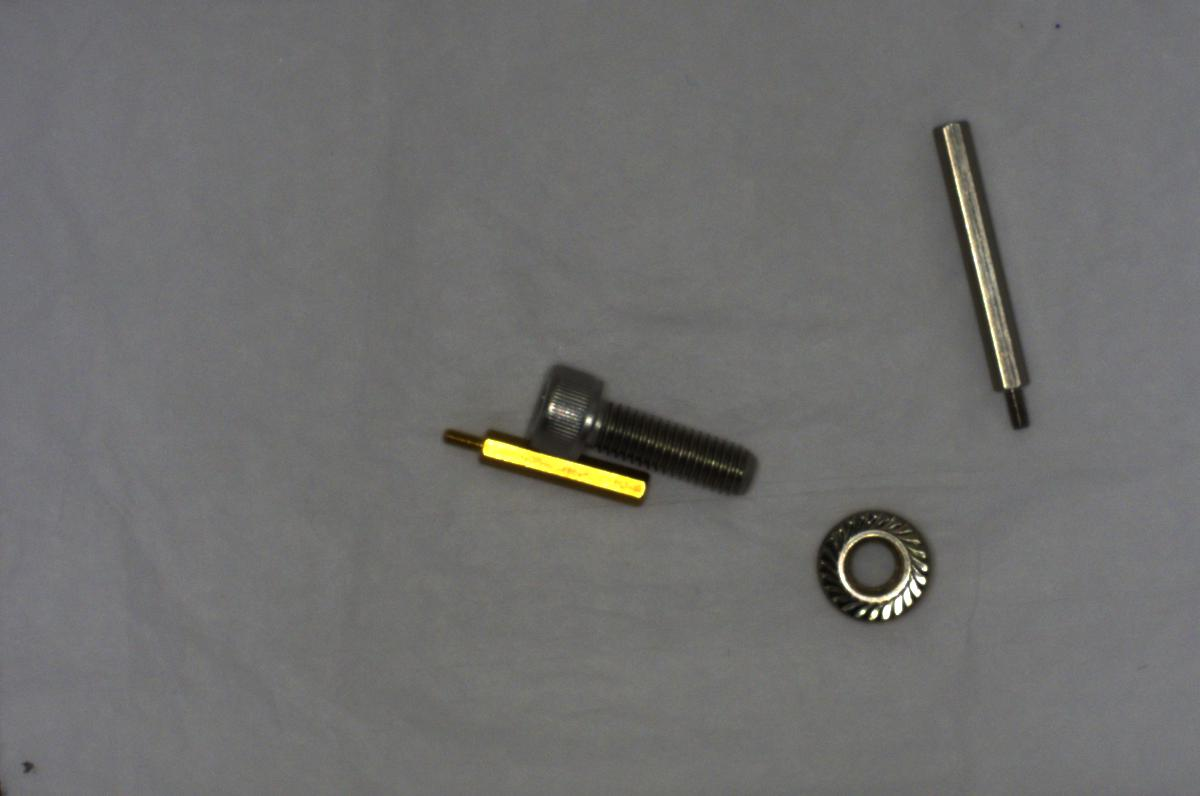Flange nut: (810, 506, 941, 626)
Hexagon pillar: (434, 419, 650, 508)
Hexagon screw: (507, 358, 765, 505)
Hexagonal steel column: (938, 108, 1034, 433)
